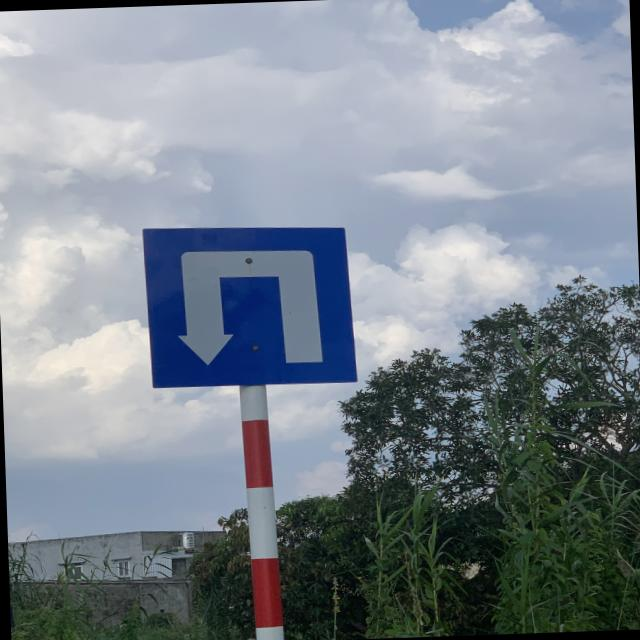Den_Giao_Thong: (142, 220, 356, 388)
